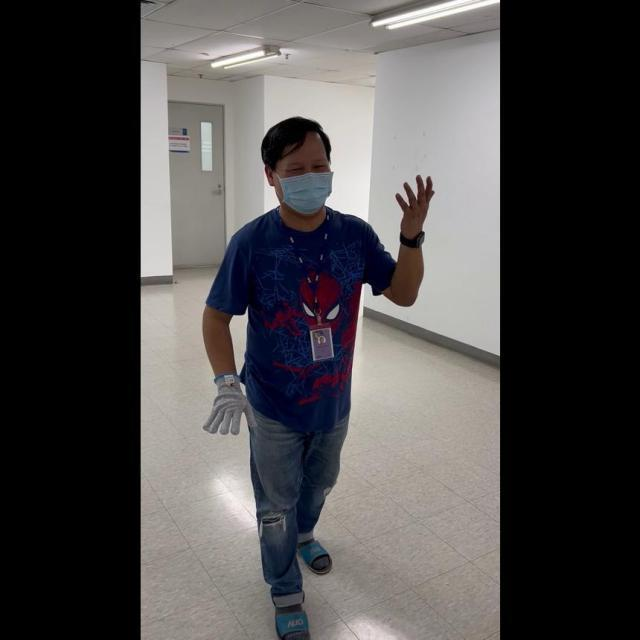bare_hand: (393, 167, 435, 243)
gloved_hand: (200, 371, 256, 436)
